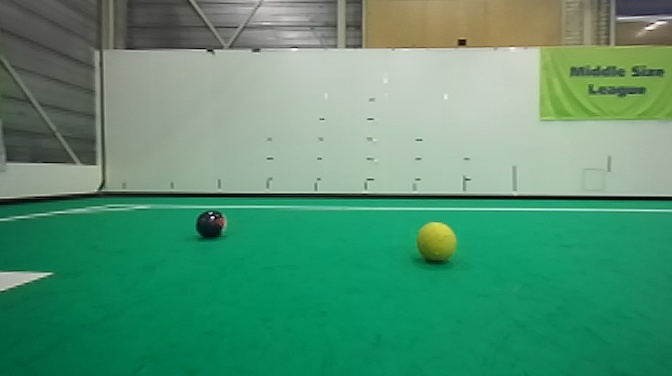ball: (413, 220, 459, 268), (194, 207, 229, 241)
